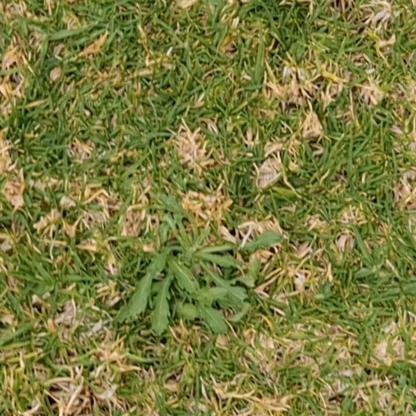Weeds: (117, 191, 282, 337)
